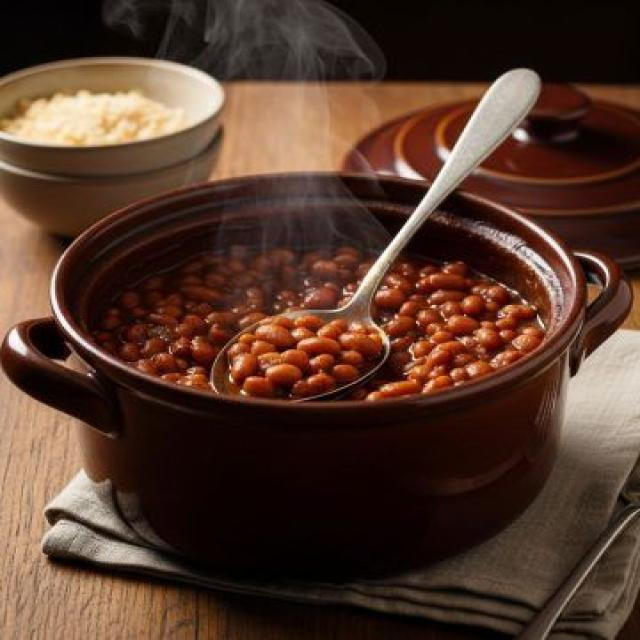beans: (93, 245, 382, 398), (230, 315, 382, 398), (255, 324, 295, 349), (340, 332, 380, 357), (230, 353, 259, 382), (297, 337, 341, 355), (265, 364, 302, 385), (379, 380, 421, 398), (242, 377, 275, 398), (374, 288, 405, 309), (447, 315, 478, 335), (475, 328, 503, 350), (512, 334, 542, 352), (331, 364, 359, 383), (281, 350, 309, 369)
